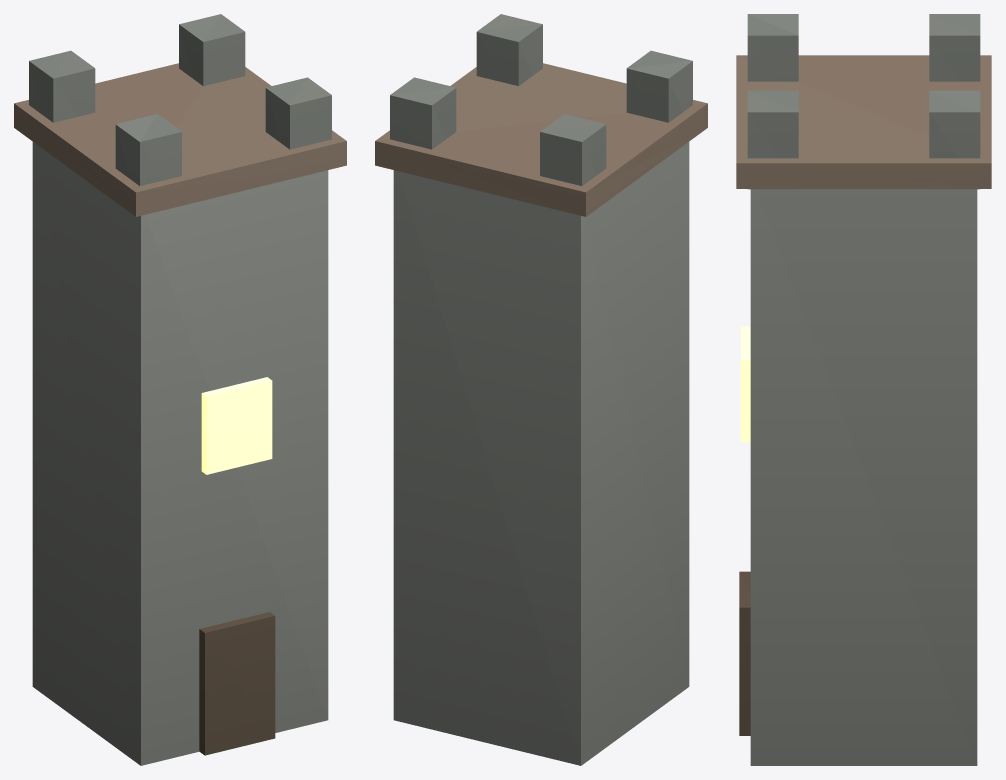
The model's file is guard_tower.glb.
3 renders of one model, left to right at view 1: azimuth 30°, elevation 25°; view 2: azimuth 150°, elevation 25°; view 3: azimuth 270°, elevation 25°, orthographic. The views are drawn at different scales.
Parts seen in each view (by area): view 1: guard_tower; view 2: guard_tower; view 3: guard_tower.
Boxes of the visible parts, box(x1,y1,x2,y2) form: guard_tower: box(14, 14, 346, 765); guard_tower: box(375, 14, 707, 765); guard_tower: box(736, 14, 991, 765).
Bounding box in the file's own units: 0.9 × 2.55 × 0.9.
